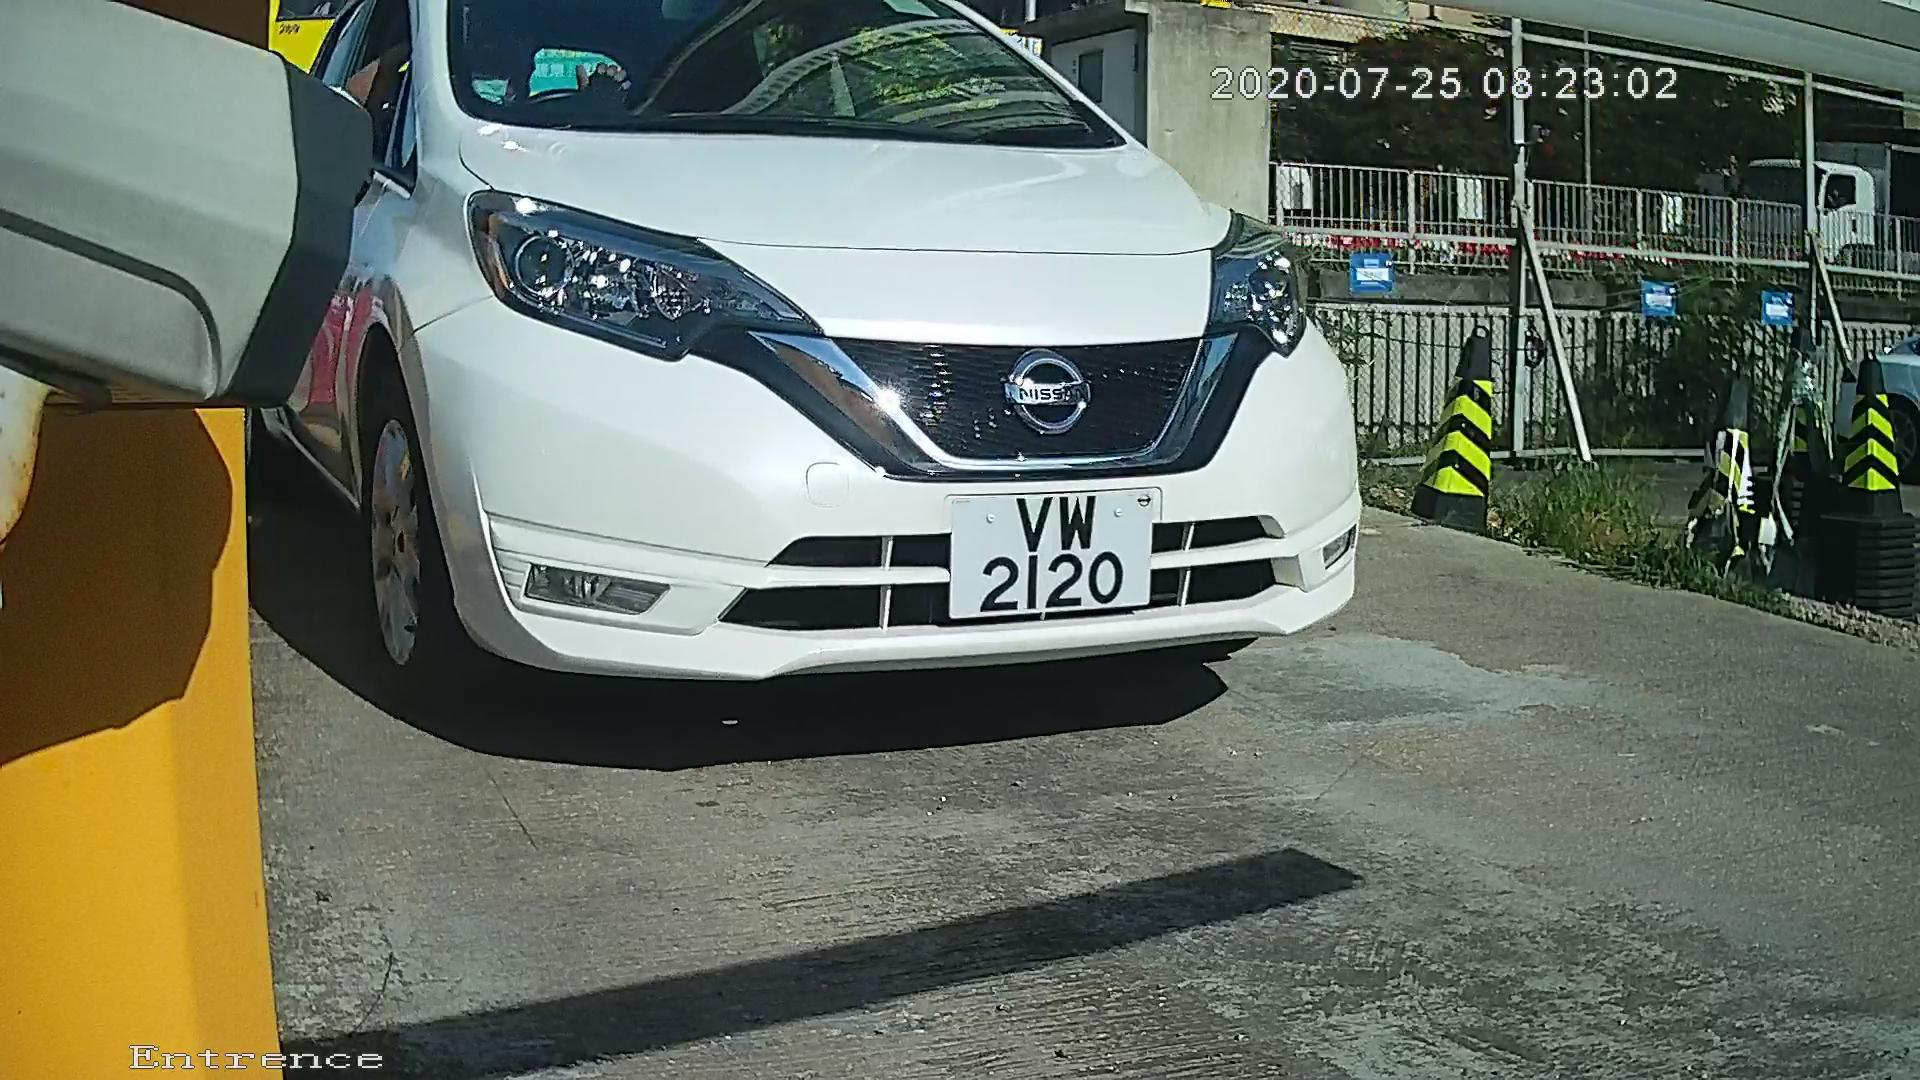License Plate: (935, 473, 1183, 637)
